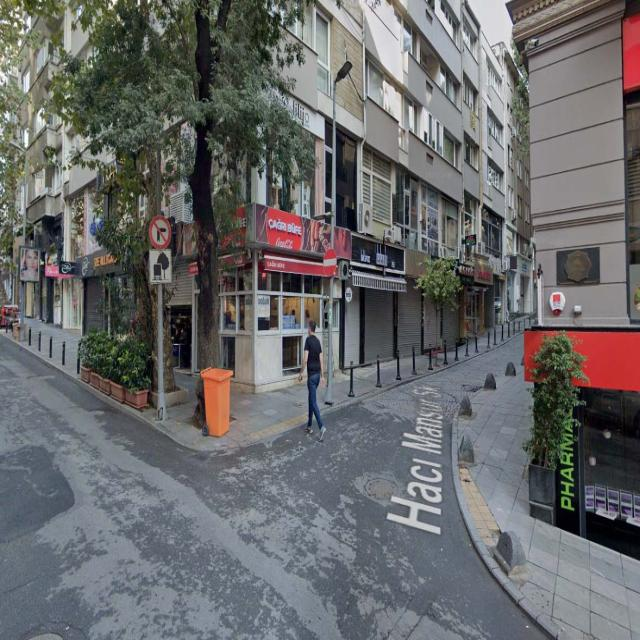girisyok: (324, 247, 337, 277)
sagadonulmez: (149, 214, 171, 250)
